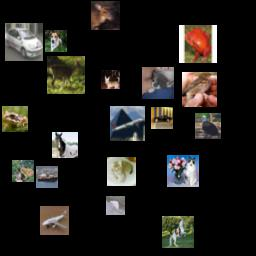airplane: (110, 106, 145, 141), (40, 206, 69, 235)
automobile: (5, 23, 43, 61), (151, 107, 173, 129)
bird: (182, 72, 217, 107), (195, 113, 221, 139)
cat: (142, 67, 174, 99), (167, 155, 199, 187), (107, 157, 136, 186), (106, 196, 125, 215)
deer: (47, 56, 85, 94), (91, 1, 120, 30)
dog: (45, 30, 67, 52), (101, 70, 120, 89)
frog: (179, 25, 217, 63), (2, 106, 28, 132), (12, 160, 34, 182)
ship: (36, 166, 58, 188)
